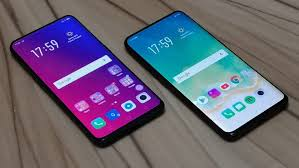oppo: (124, 4, 286, 142), (9, 13, 166, 149)
